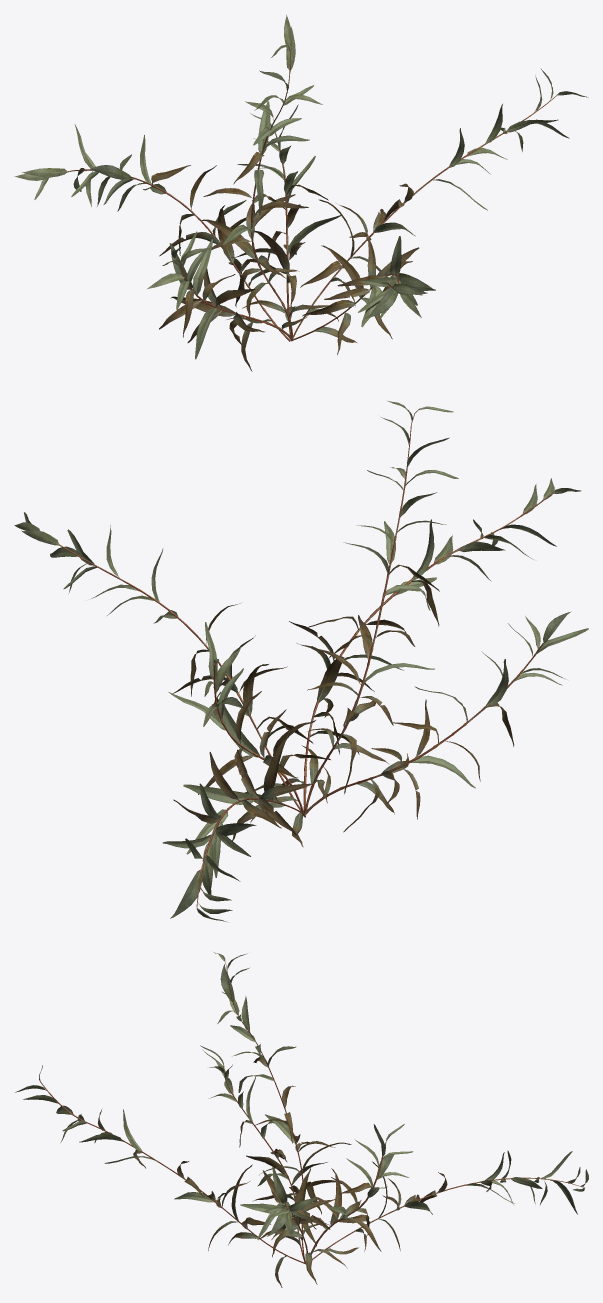
File: nat-shrub-b.glb
The picture shows the model from 3 angles, top to bottom: view 1: azimuth 30°, elevation 25°; view 2: azimuth 150°, elevation 25°; view 3: azimuth 270°, elevation 25°; orthographic projection. The views are drawn at different scales.
Visible parts, largest first — view 1: shrub_02_c; view 2: shrub_02_c; view 3: shrub_02_c.
Boxes of the visible parts, x1,y1,x2,y2 form: shrub_02_c: (14,15,588,371); shrub_02_c: (14,401,588,922); shrub_02_c: (15,952,588,1287).
Bounding box in the file's own units: 1.77 × 1.31 × 2.29.
1 material, 1 textured.
